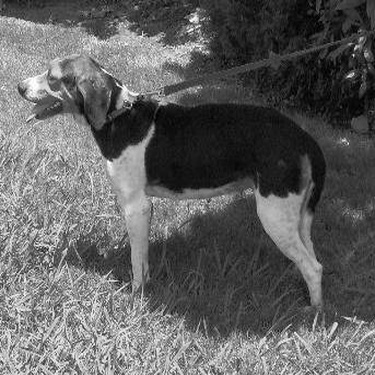dog: (14, 50, 329, 313)
